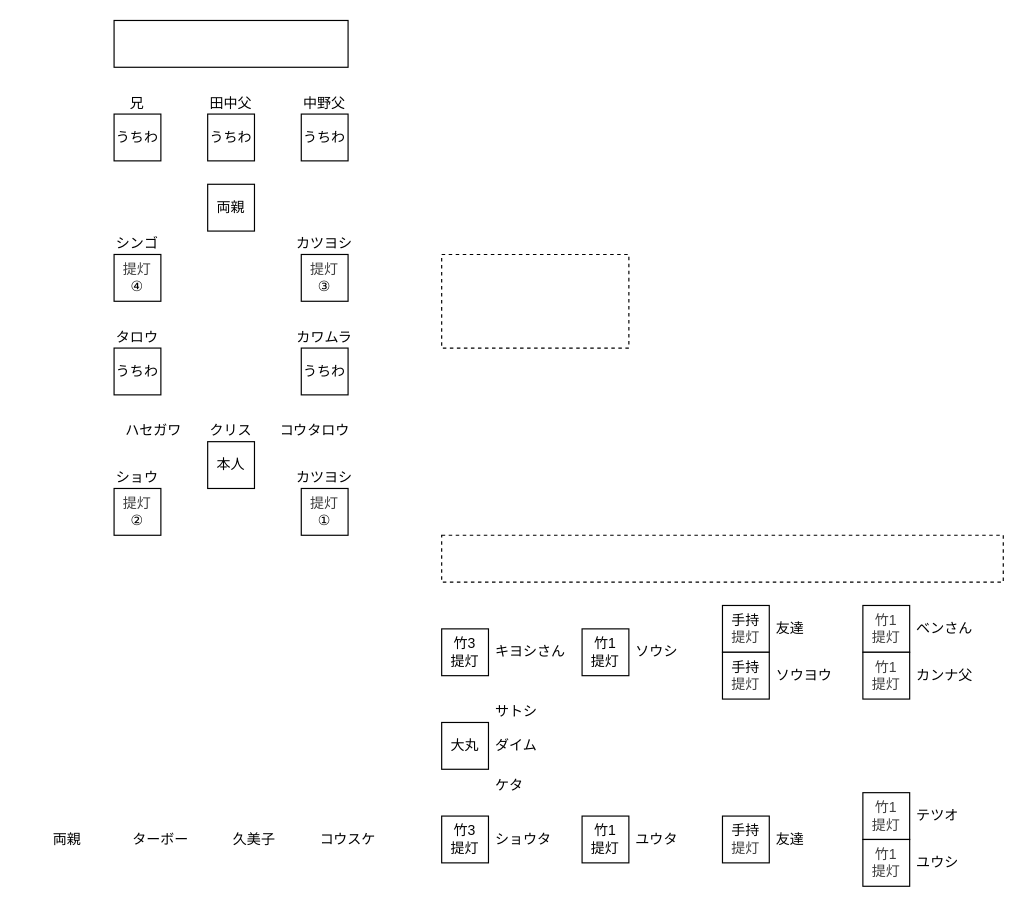
Some shapes in this 1024 by 907 pixel diagram are drawn without their labels. The shapes that lost their labels are listed below. From the top down, each one's box as (x1, y1, x2, y2) in pixels, then its label:
(113, 19, 348, 67): 階段
(441, 253, 629, 348): 提灯① 御神子⚪︎みなみ 提灯② 御神子⚫︎ 湊美 提灯③ 御神子⚫︎ 湊美 提灯④ 御神子 湊美
(441, 534, 1003, 582): （ここから下は松の後ろで待機）
